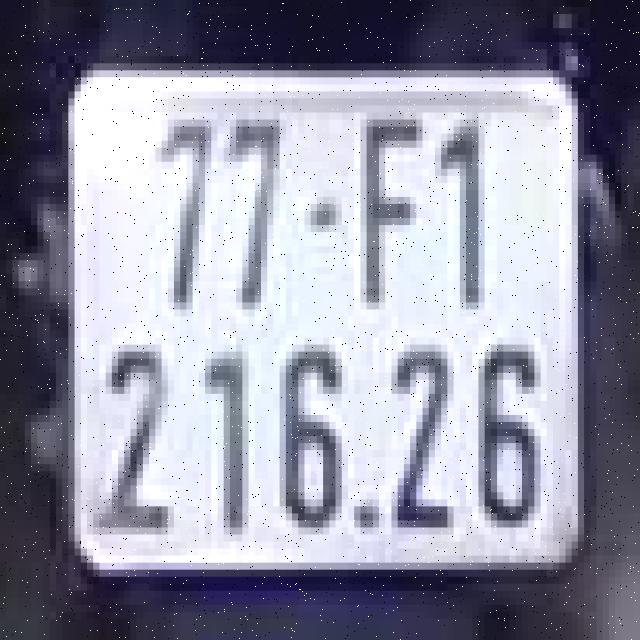1: (438, 105, 506, 324), (193, 334, 261, 538)
2: (96, 316, 177, 548), (379, 338, 460, 548)
6: (466, 327, 565, 545), (267, 334, 367, 538)
7: (143, 91, 224, 316), (218, 88, 292, 320)
F: (344, 92, 426, 310)
